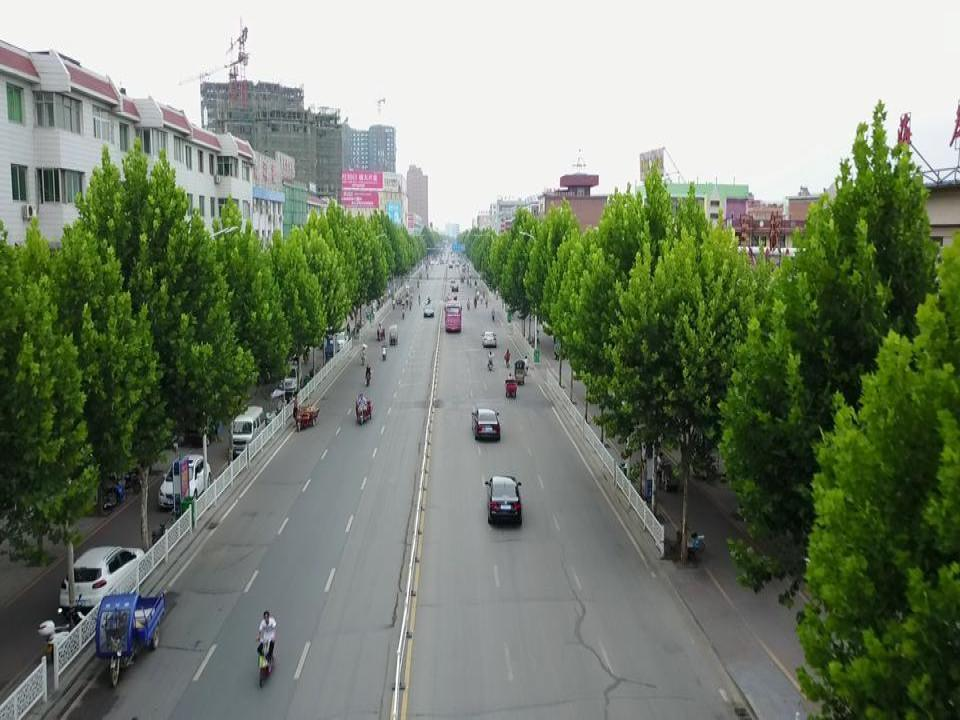bus: (445, 301, 461, 335)
car: (58, 546, 145, 614), (159, 455, 212, 512), (160, 403, 220, 440), (485, 476, 524, 525), (470, 409, 501, 443), (482, 331, 497, 348), (423, 305, 435, 319), (451, 284, 458, 292), (450, 279, 455, 288)
van: (227, 407, 266, 460), (277, 364, 304, 395), (332, 331, 347, 353)
